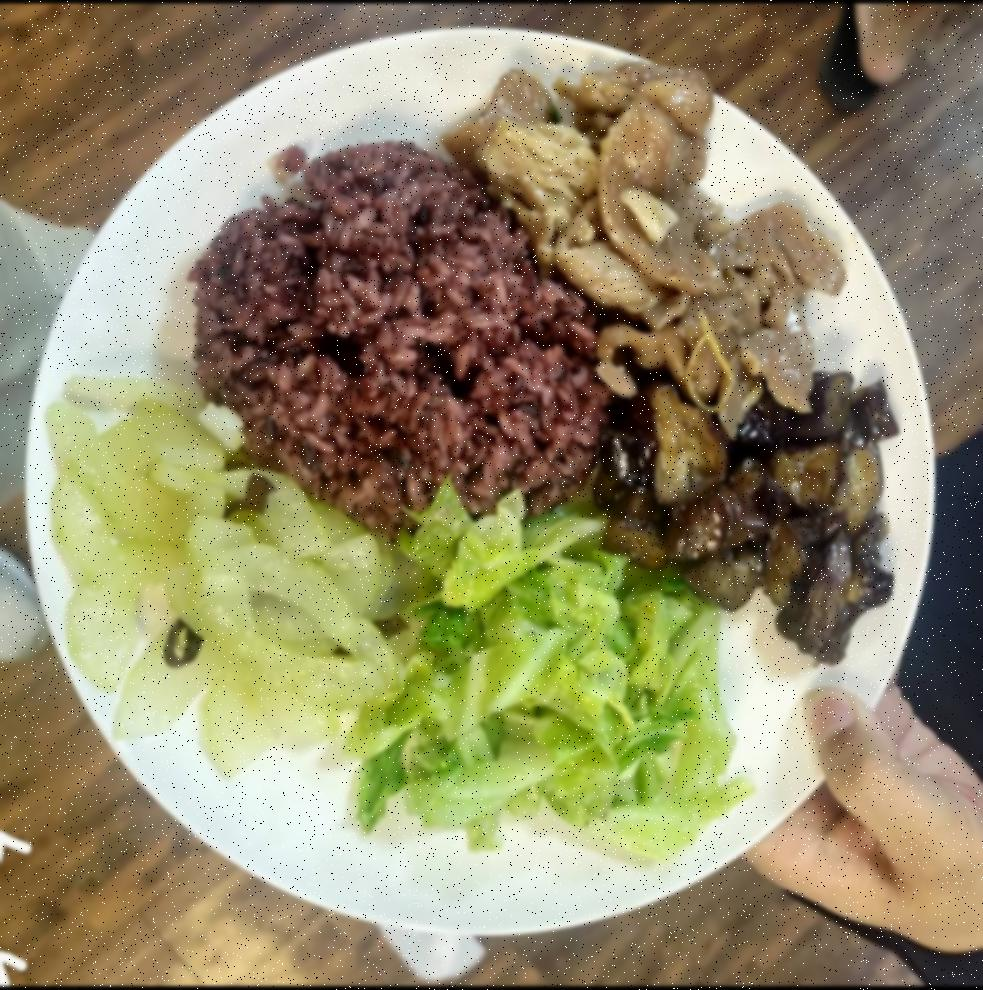garlic white meat: (457, 63, 846, 408)
plate: (19, 28, 948, 951)
purple rice: (185, 136, 606, 528)
side dish: (35, 372, 394, 770), (348, 513, 746, 868), (608, 390, 906, 660)
